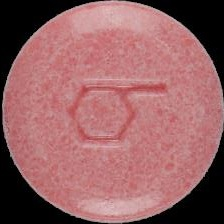0555-9027: (0, 0, 224, 224)
